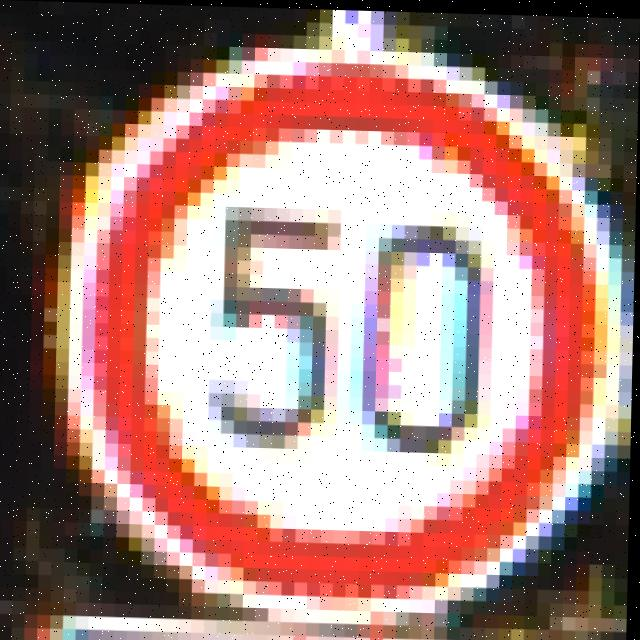speed_limit_50: (64, 42, 639, 619)
